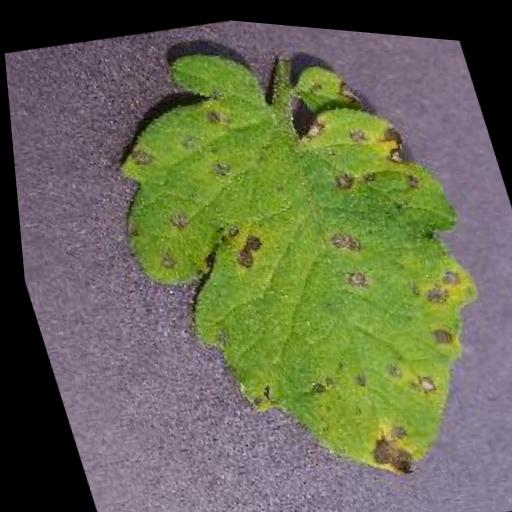Septoria: (65, 5, 512, 512)
